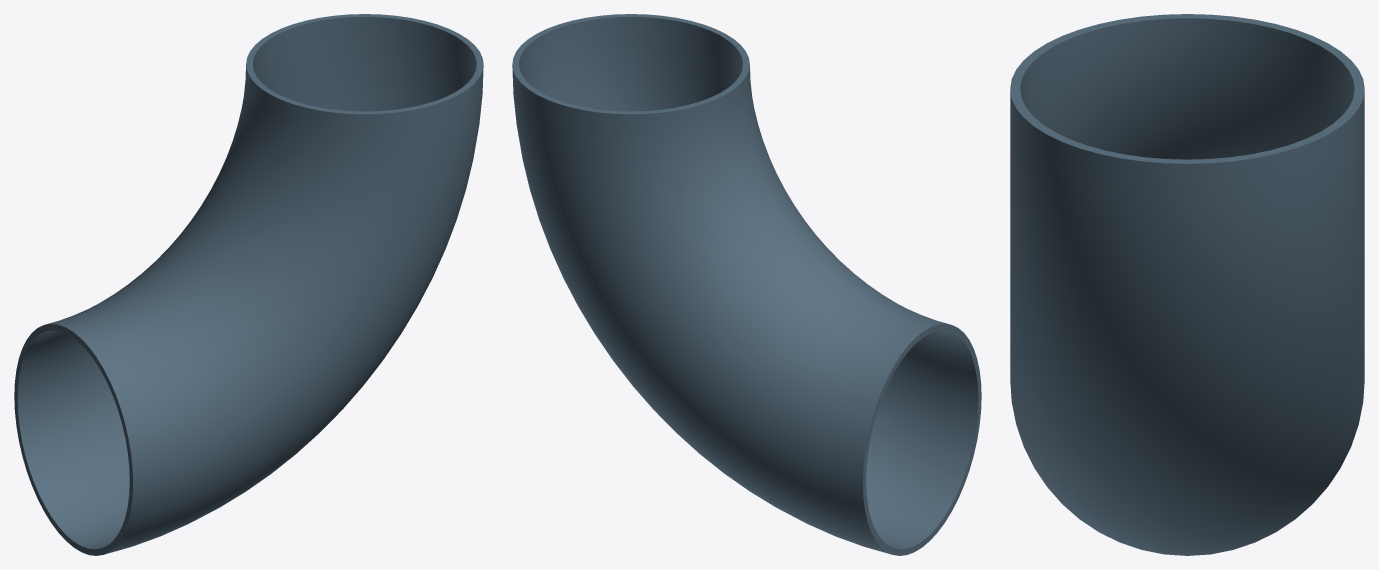
File: otvod-90-159x4_5-R225.glb
The picture shows the model from 3 angles, left to right: view 1: azimuth 30°, elevation 25°; view 2: azimuth 150°, elevation 25°; view 3: azimuth 270°, elevation 25°; orthographic projection. The views are drawn at different scales.
Visible parts, largest first — view 1: Open CASCADE STEP translator 7.9 54; view 2: Open CASCADE STEP translator 7.9 54; view 3: Open CASCADE STEP translator 7.9 54.
Boxes of the visible parts, left/top/right/bottom form: Open CASCADE STEP translator 7.9 54: left=14, top=14, right=483, bottom=555; Open CASCADE STEP translator 7.9 54: left=512, top=14, right=981, bottom=555; Open CASCADE STEP translator 7.9 54: left=1010, top=14, right=1364, bottom=555.
Size of the model in its own units: 304 by 304 by 159.
